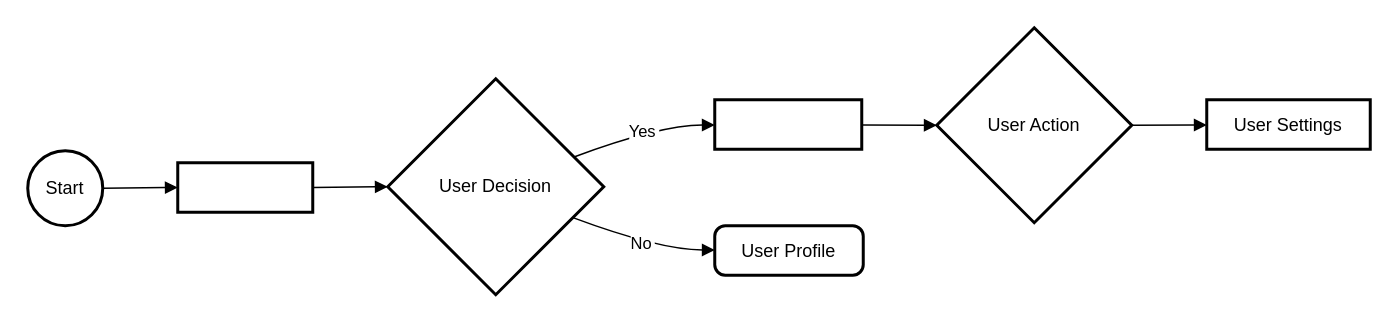
Some shapes in this 1397 by 321 pixel diagram are drawn without their labels. Each missing label, with the box of its shape:
User Access: (712, 98, 862, 150)
User Login: (176, 160, 314, 213)
